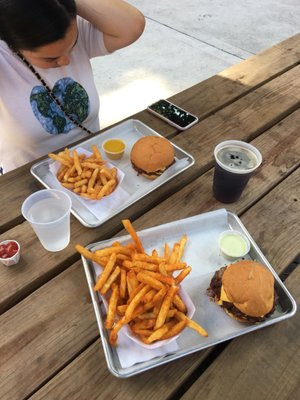pizza: (212, 140, 263, 204), (20, 189, 71, 252)
